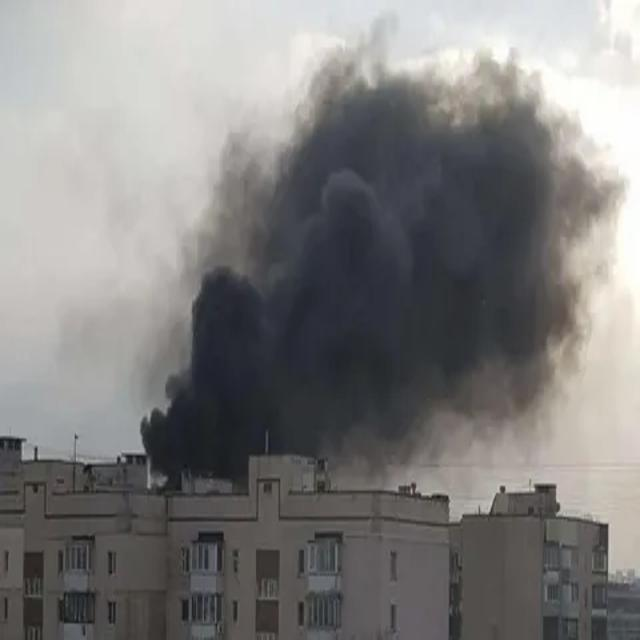Smoke: (141, 42, 620, 472)
